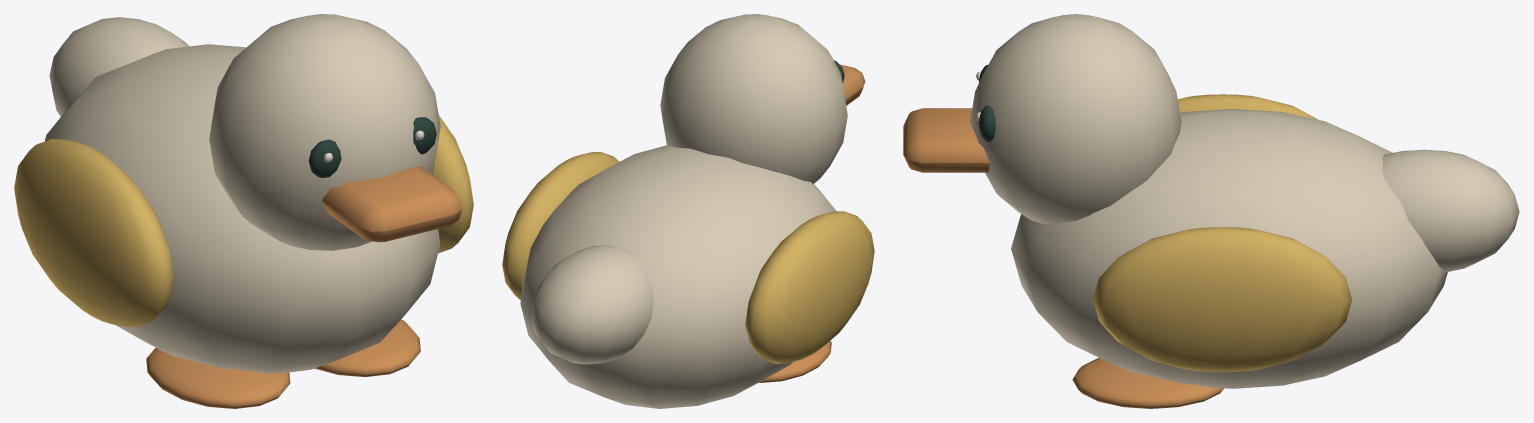
Rendered from duck.glb.
3 views of the same model, side by side, from view 1: azimuth 30°, elevation 25°; view 2: azimuth 150°, elevation 25°; view 3: azimuth 270°, elevation 25° (orthographic). The views are drawn at different scales.
Parts seen in each view (by area): view 1: body; view 2: body; view 3: body.
Part boxes in pixels (x1,y1,x2,y2): body: [14, 14, 473, 408]; body: [502, 14, 874, 408]; body: [903, 14, 1519, 408].
Bounding box in the file's own units: 1.14 × 1.12 × 1.8.
